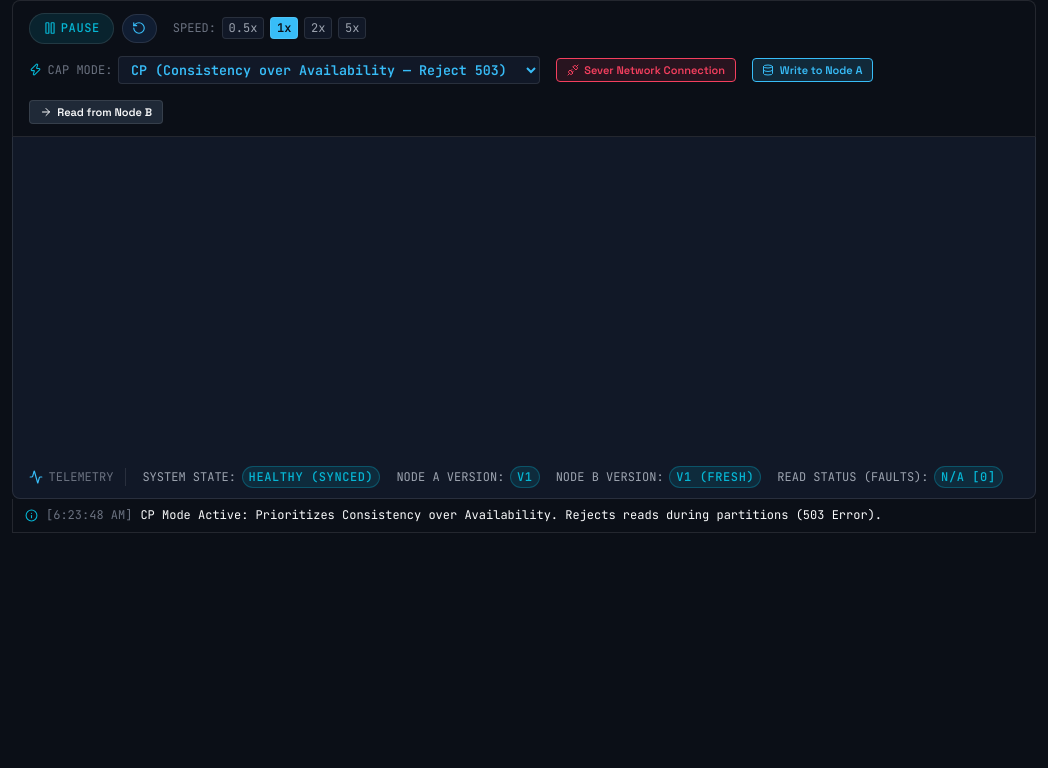
Test case: CapTheoremVisualizer (Catalog Viz #5) › handles AP mode + Partition stale read
This screenshot has width=1048, height=768.
// Switch to AP mode
Select "AP (Availability over Consistency — Serve Stale)" in the dropdown showing "CP (Consistency over Availability — Reject 503)" at x=329, y=70, box [118,56,540,84]
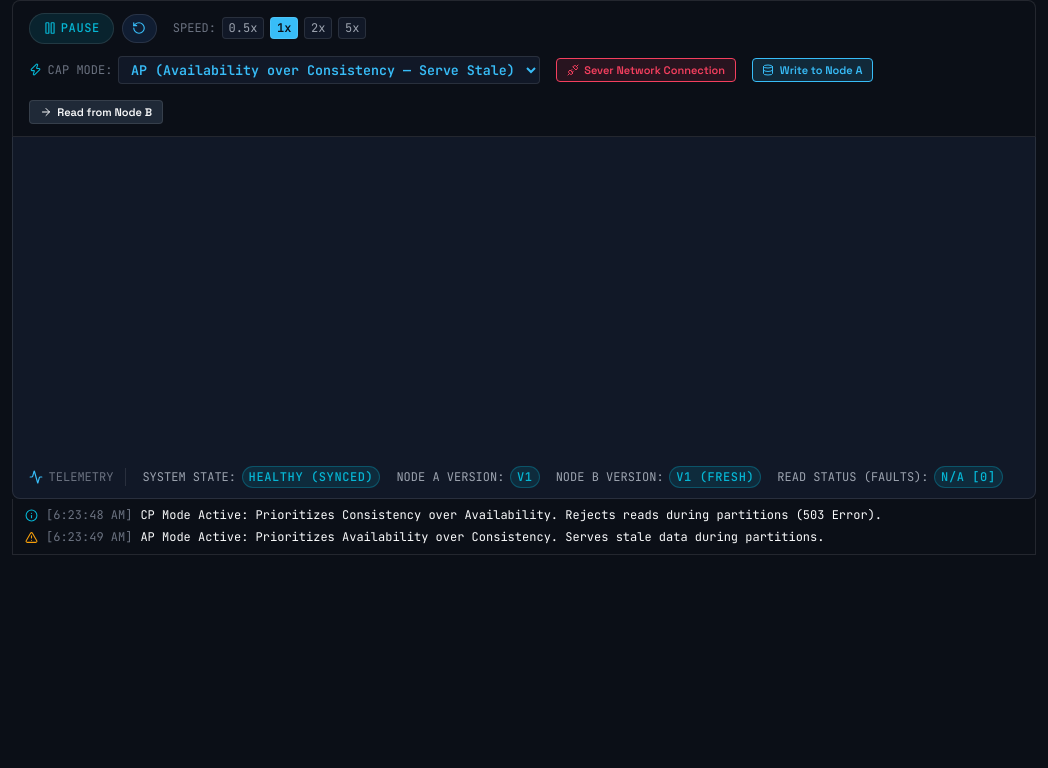
// Sever partition
Click the button "Sever Network Connection" at x=646, y=70, box [556,58,736,82]
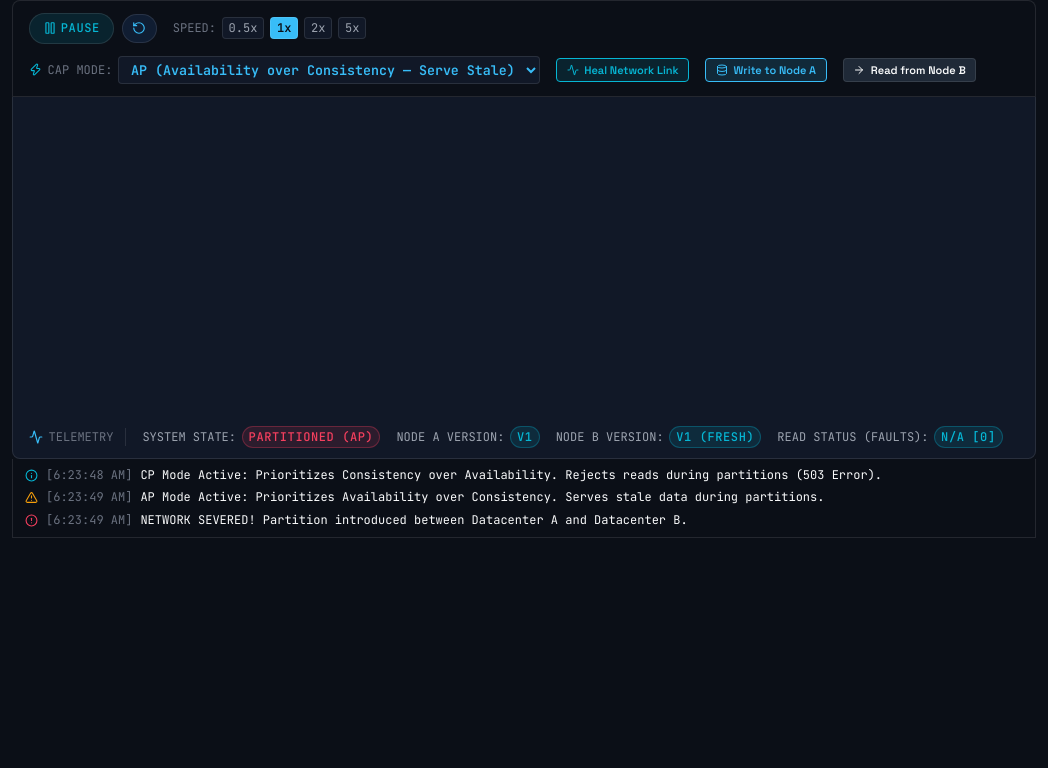
// Write Node A
Click the button "Write to Node A" at x=766, y=70, box [705,58,827,82]
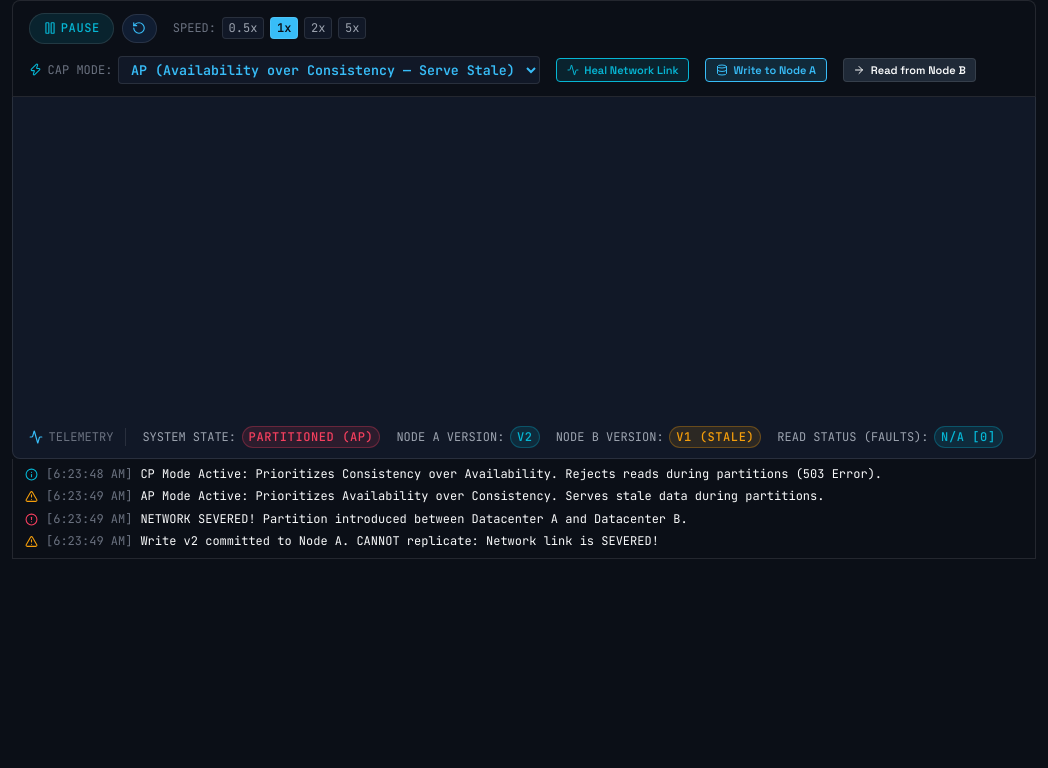
// Read Node B in AP mode
Click the button "Read from Node B" at x=910, y=70, box [843,58,976,82]
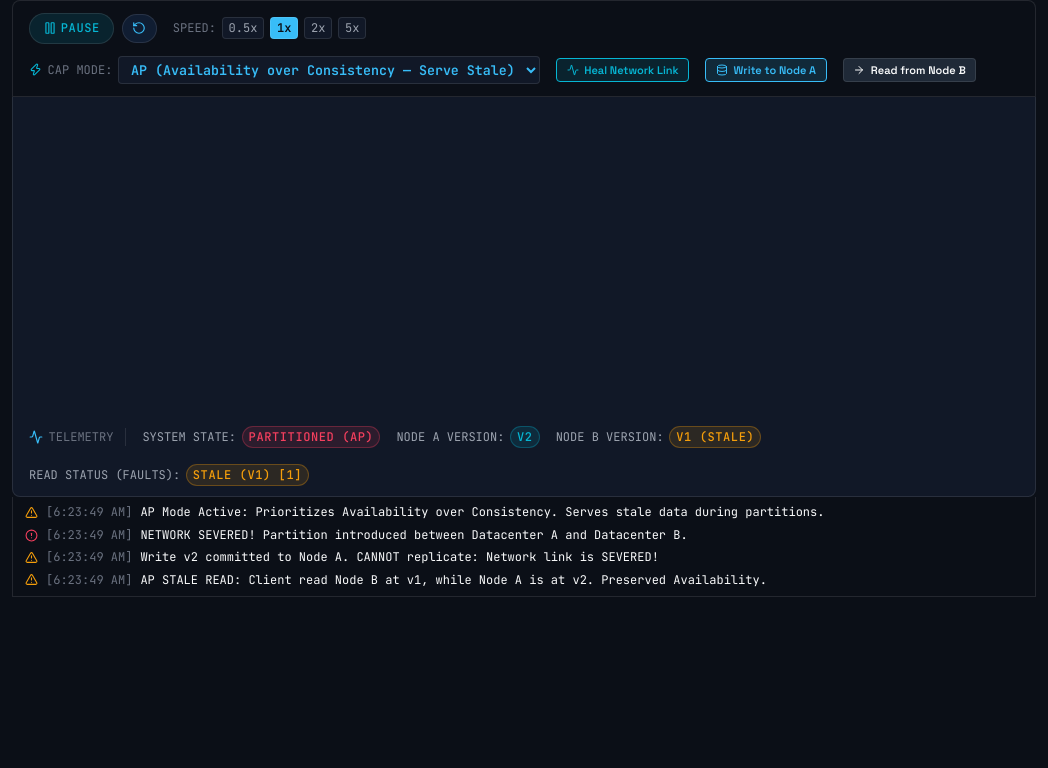
Expected: the text "AP STALE READ: Client read Node B" is shown, [140,572,767,588]
